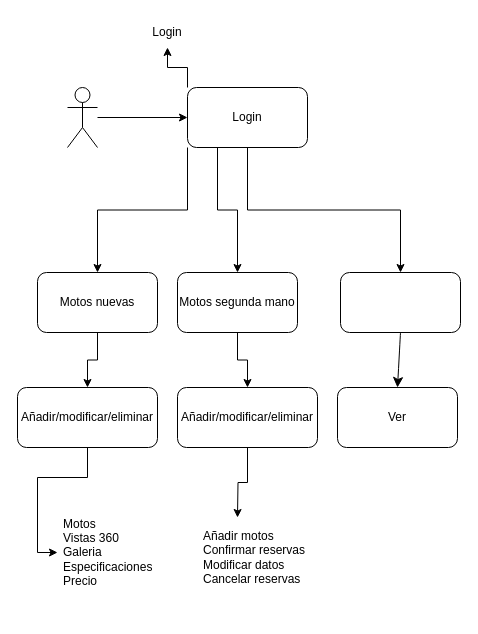
This 478x634 diagram has some shape labels left out. The shapes that lost their labels are listed below. From the top down, each one's centre as x and y in pixels, then its label:
the point at 82,117: Actor
the point at 400,302: Promociones
